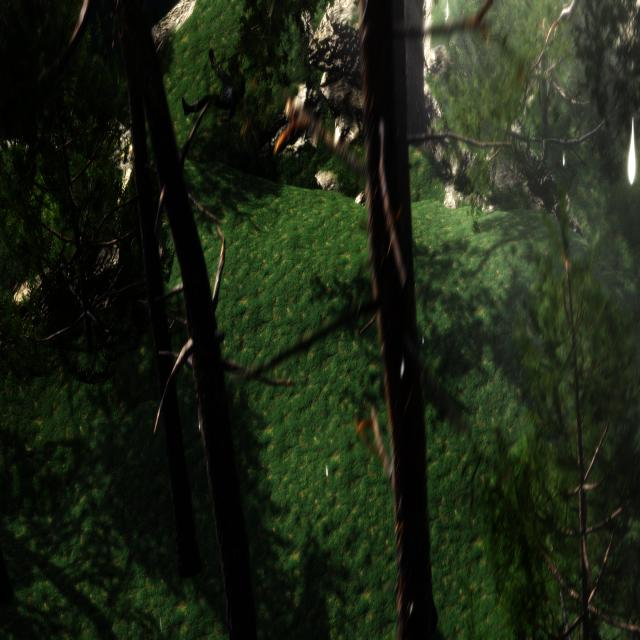Human: (183, 48, 251, 130)
